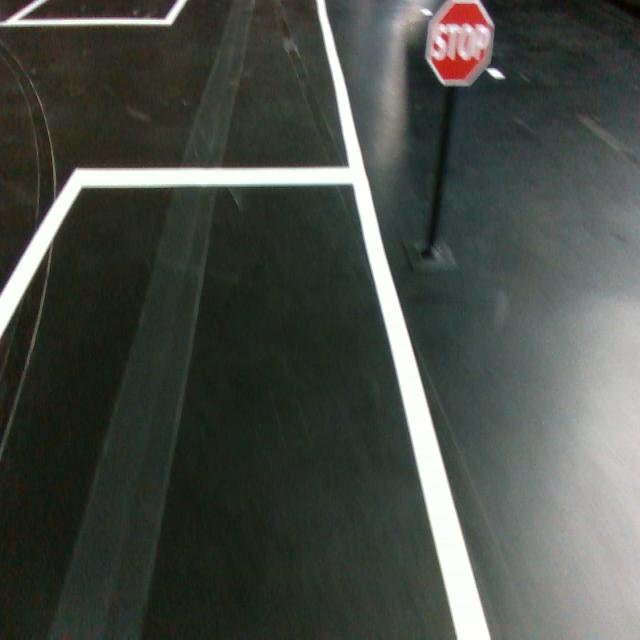stop-sign: (423, 0, 496, 87)
